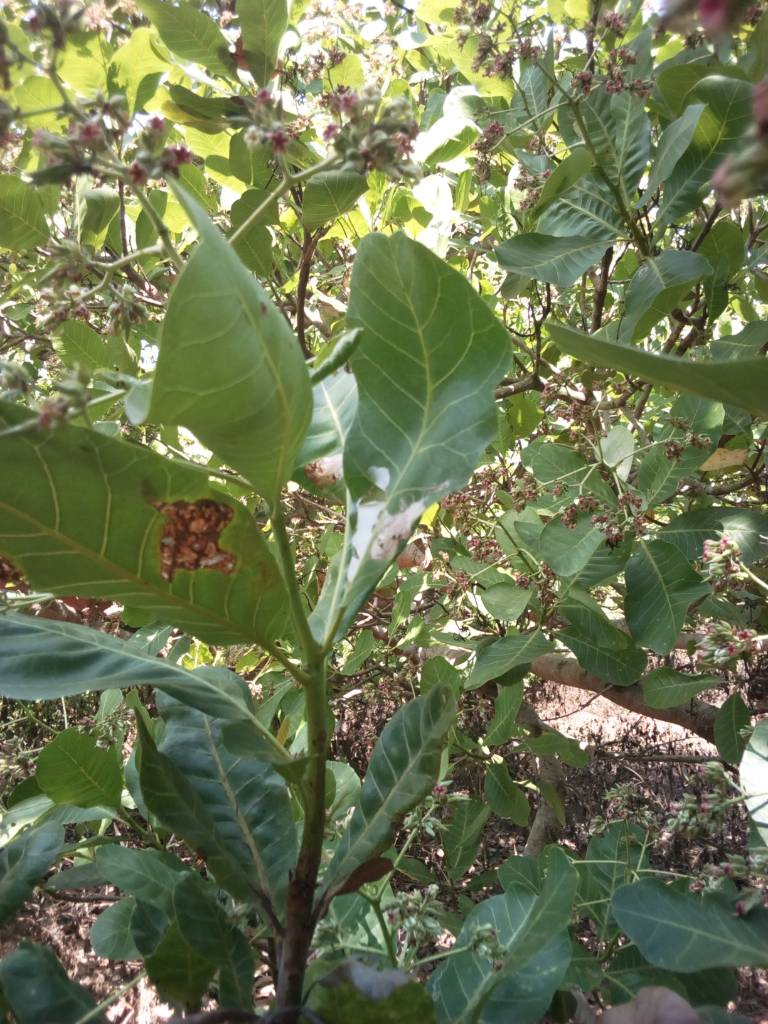Dysdercus wolkerii: (1, 394, 336, 688)
